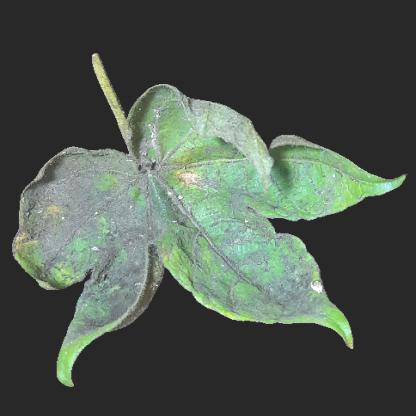curl_stage1: (336, 179, 362, 205)
curl_stage2: (197, 114, 251, 144)
sooty: (31, 167, 155, 309), (201, 187, 269, 289), (151, 171, 200, 265), (252, 275, 318, 326)
